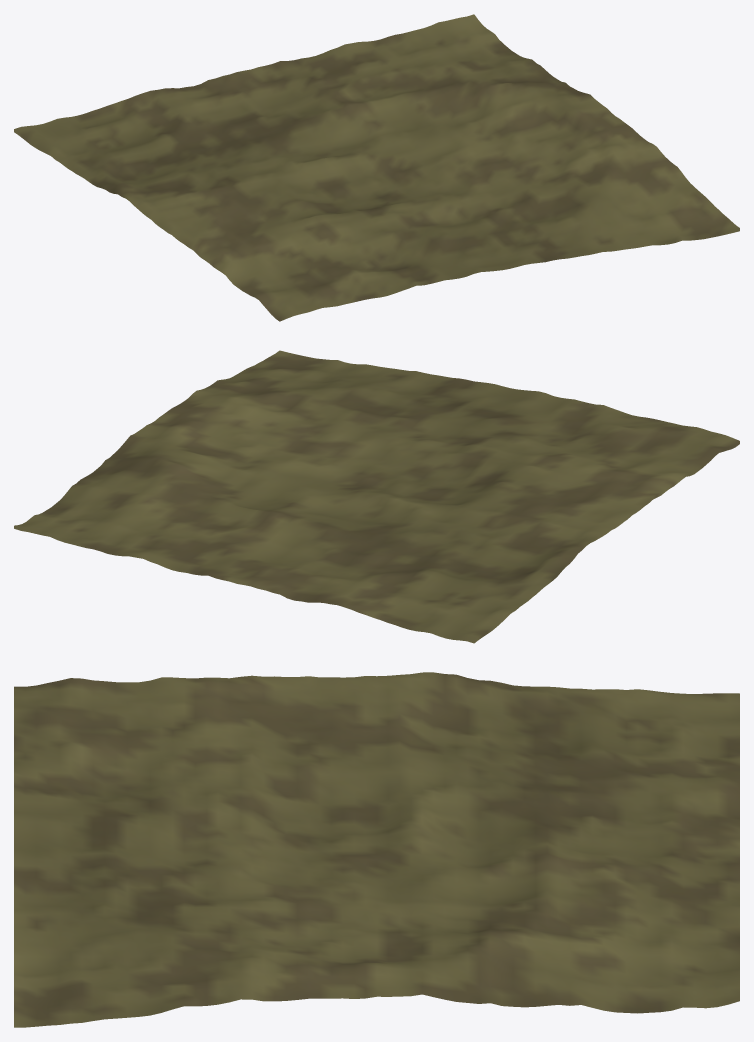
File: land_f_04_09.glb
3 renders of one model, top to bottom at view 1: azimuth 30°, elevation 25°; view 2: azimuth 150°, elevation 25°; view 3: azimuth 270°, elevation 25°, orthographic. The views are drawn at different scales.
Parts seen in each view (by area): view 1: land_f_04_09; view 2: land_f_04_09; view 3: land_f_04_09.
Part boxes in pixels (bbox=[...]): land_f_04_09: bbox=[14, 14, 739, 321]; land_f_04_09: bbox=[14, 350, 739, 643]; land_f_04_09: bbox=[14, 672, 739, 1027].
Size of the model in its own units: 3840 by 282 by 3840.
